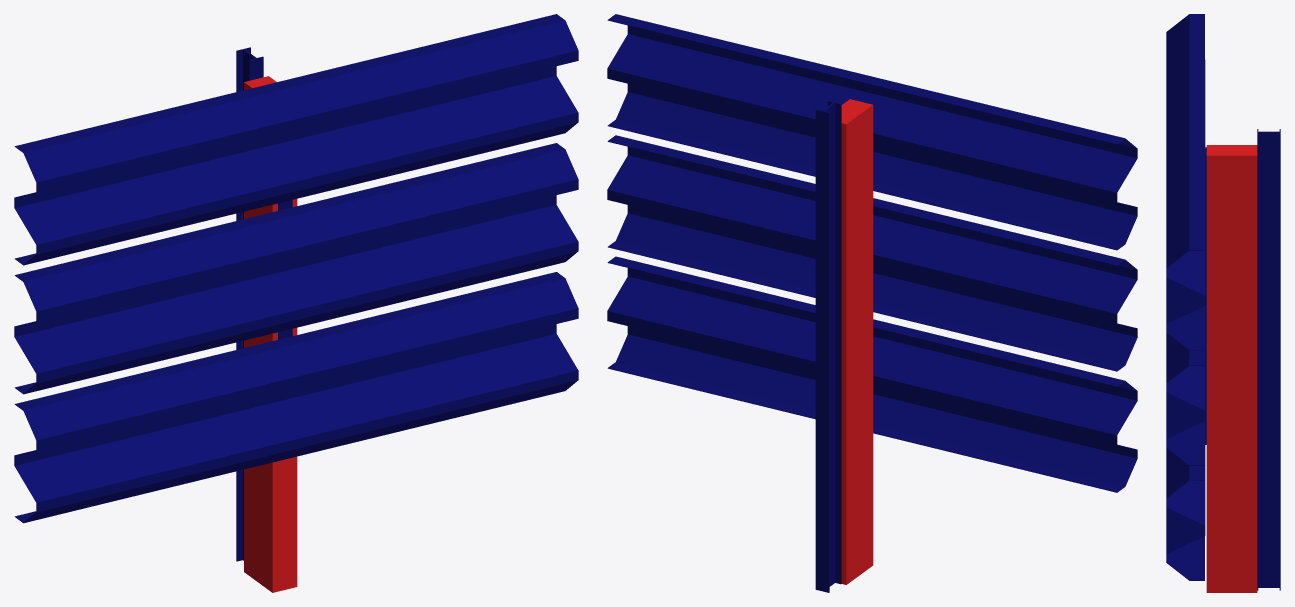
File: Railing_Mesh.fbx
3 views of the same model, side by side, from view 1: azimuth 30°, elevation 25°; view 2: azimuth 150°, elevation 25°; view 3: azimuth 270°, elevation 25° (orthographic). The views are drawn at different scales.
Visible parts, largest first — view 1: Railing; view 2: Railing; view 3: Railing.
Boxes of the visible parts, x1,y1,x2,y2 form: Railing: (14,14,578,592); Railing: (607,14,1137,592); Railing: (1166,14,1280,592).
Bounding box in the file's own units: 22.58 × 110 × 98.99.
